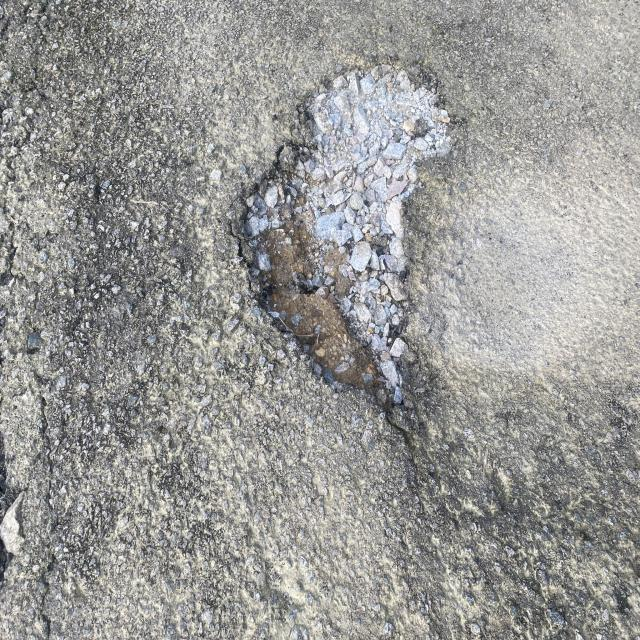Pothole: (212, 46, 499, 448)
